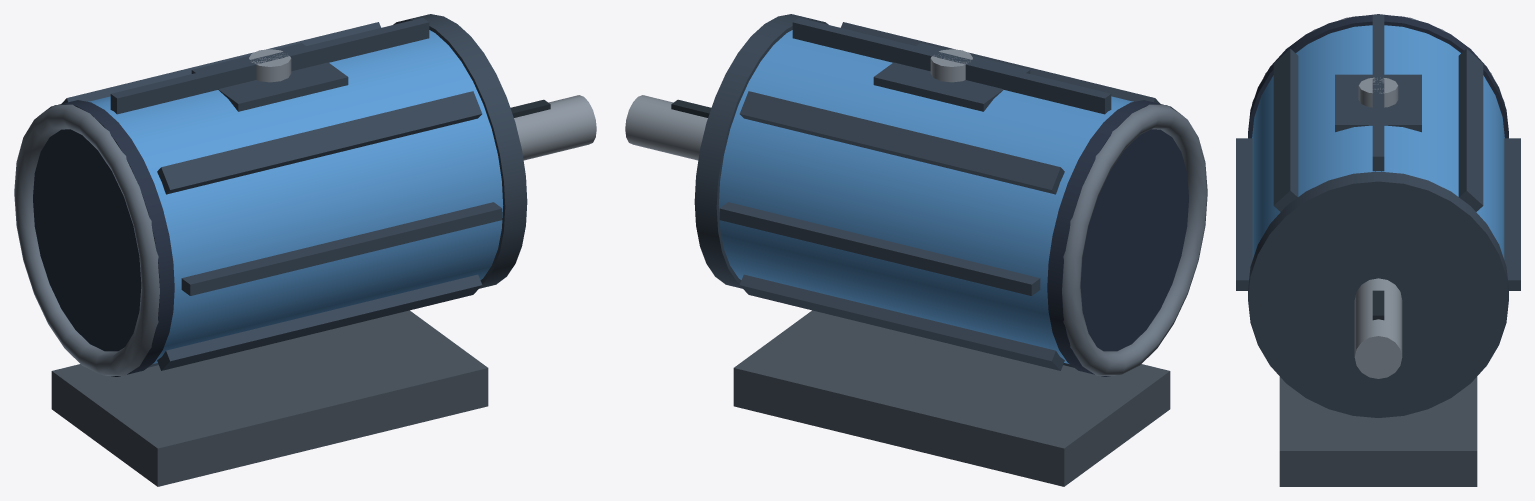
File: motor.glb
3 renders of one model, left to right at view 1: azimuth 30°, elevation 25°; view 2: azimuth 150°, elevation 25°; view 3: azimuth 270°, elevation 25°, orthographic. The views are drawn at different scales.
Bounding box in the file's own units: 1.37 × 0.91 × 0.72.
